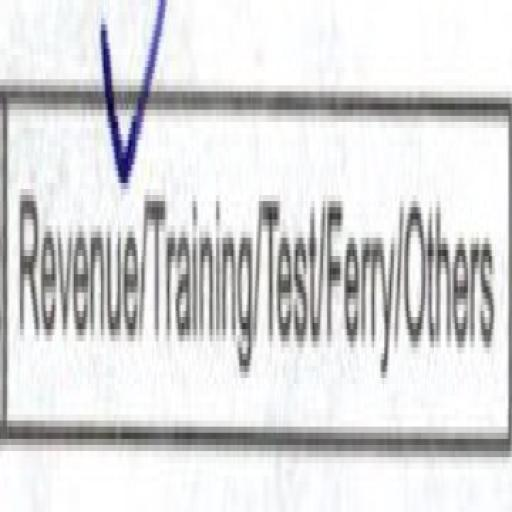check: (0, 0, 142, 506)
